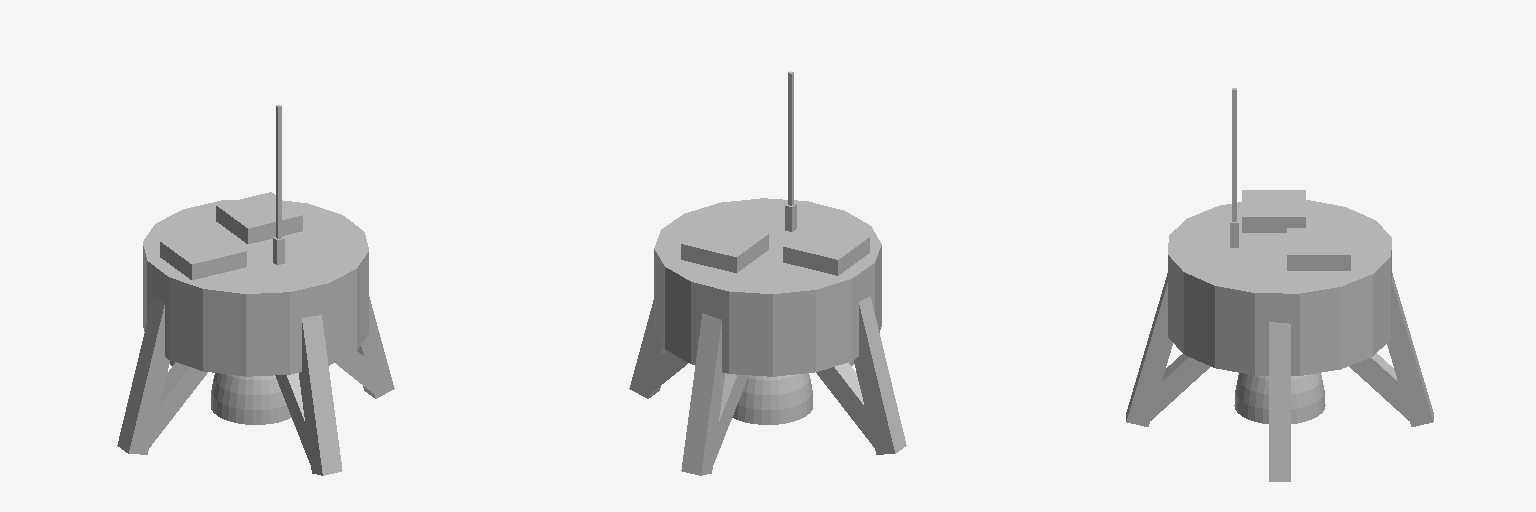
Rendered from minilander.obj.
The picture shows the model from 3 angles: view 1: azimuth 30°, elevation 25°; view 2: azimuth 150°, elevation 25°; view 3: azimuth 270°, elevation 25°; orthographic projection.
Visible parts, largest first — view 1: Cylinder.004, Cube.002_Cube.004, Cube_Cube.003, Sphere.007, Cube.007_Cube.009, Cube.006_Cube.008, Cube.003_Cube.005, Cube.004_Cube.001; view 2: Cylinder.004, Cube.002_Cube.004, Cube.001_Cube.003, Sphere.007, Cube.006_Cube.008, Cube.007_Cube.009, Cube.003_Cube.005, Cube.004_Cube.001; view 3: Cylinder.004, Cube.001_Cube.003, Cube_Cube.003, Cube.003_Cube.005, Sphere.007, Cube.006_Cube.008, Cube.007_Cube.009, Cube.004_Cube.001.
Part boxes in pixels (bbox=[...]): Cylinder.004: bbox=[143, 200, 368, 376]; Cube.002_Cube.004: bbox=[117, 295, 207, 454]; Cube_Cube.003: bbox=[275, 315, 342, 475]; Sphere.007: bbox=[211, 373, 291, 424]; Cube.007_Cube.009: bbox=[160, 228, 246, 279]; Cube.006_Cube.008: bbox=[216, 192, 302, 243]; Cube.003_Cube.005: bbox=[335, 297, 394, 398]; Cube.004_Cube.001: bbox=[276, 105, 281, 238]; Cylinder.004: bbox=[654, 198, 881, 376]; Cube.002_Cube.004: bbox=[816, 296, 906, 454]; Cube.001_Cube.003: bbox=[681, 313, 748, 475]; Sphere.007: bbox=[732, 373, 812, 424]; Cube.006_Cube.008: bbox=[681, 221, 768, 272]; Cube.007_Cube.009: bbox=[783, 223, 869, 275]; Cube.003_Cube.005: bbox=[629, 300, 687, 398]; Cube.004_Cube.001: bbox=[788, 71, 793, 205]; Cylinder.004: bbox=[1168, 200, 1391, 375]; Cube.001_Cube.003: bbox=[1349, 273, 1433, 426]; Cube_Cube.003: bbox=[1126, 273, 1210, 426]; Cube.003_Cube.005: bbox=[1269, 322, 1290, 481]; Sphere.007: bbox=[1234, 373, 1325, 423]; Cube.006_Cube.008: bbox=[1287, 228, 1350, 270]; Cube.007_Cube.009: bbox=[1242, 190, 1305, 232]; Cube.004_Cube.001: bbox=[1232, 88, 1236, 221].
Size of the model in its own units: 24.29 by 29.1 by 24.29.